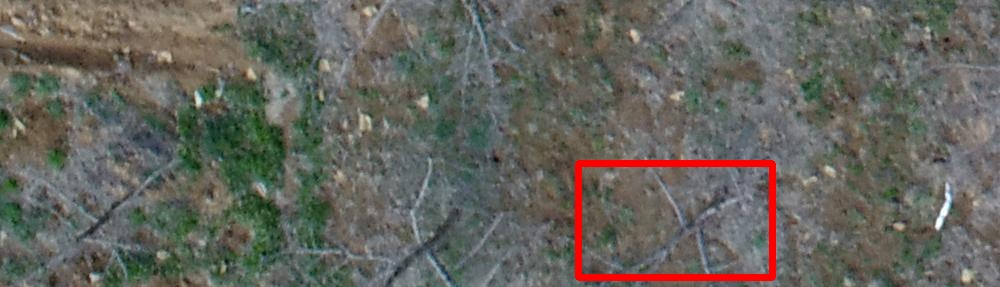apple: (578, 163, 772, 277)
